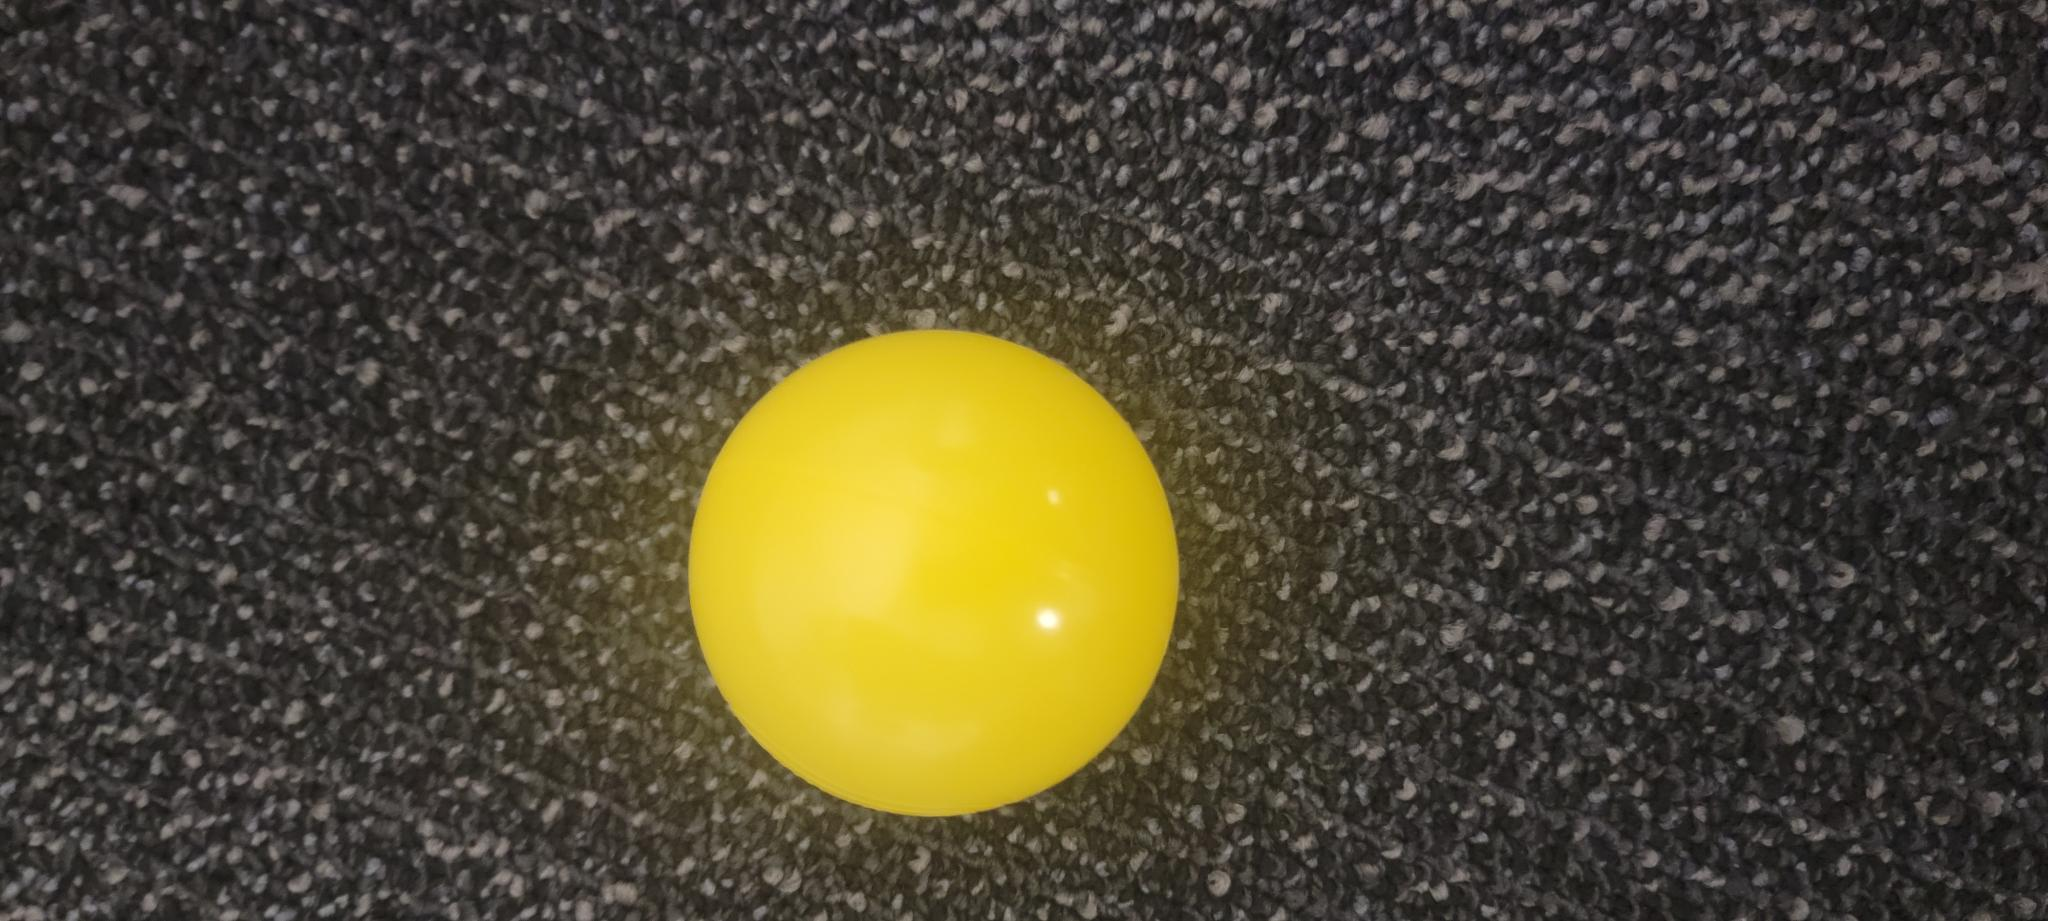Yellow-Ball: (104, 692, 592, 921)
